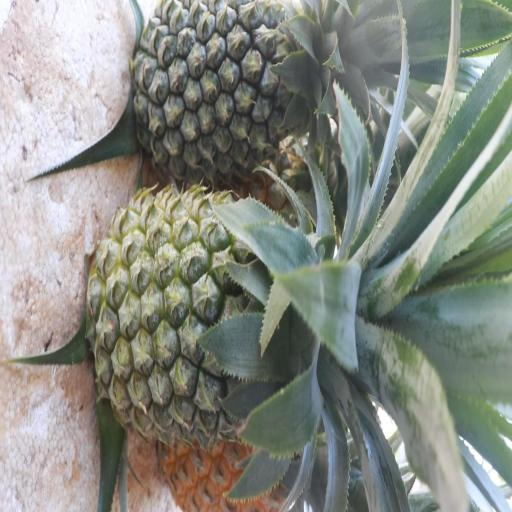------------------------------: (89, 187, 332, 446)
